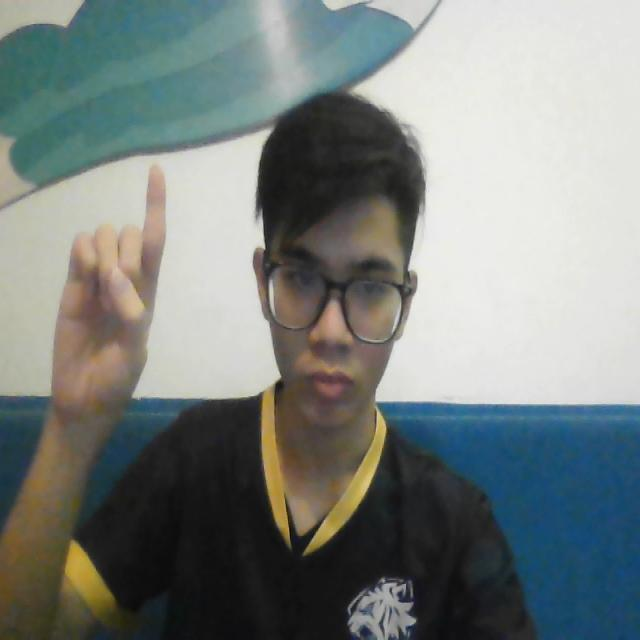D: (41, 158, 168, 423)
